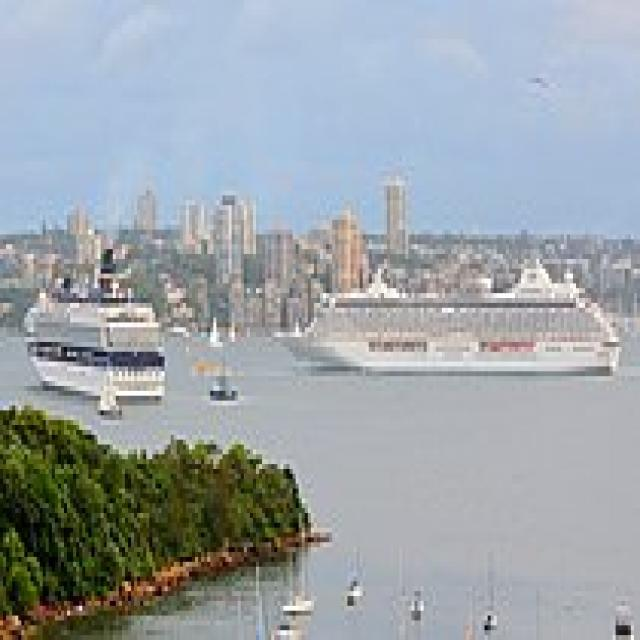Ship: (269, 235, 629, 387), (19, 236, 184, 412)
